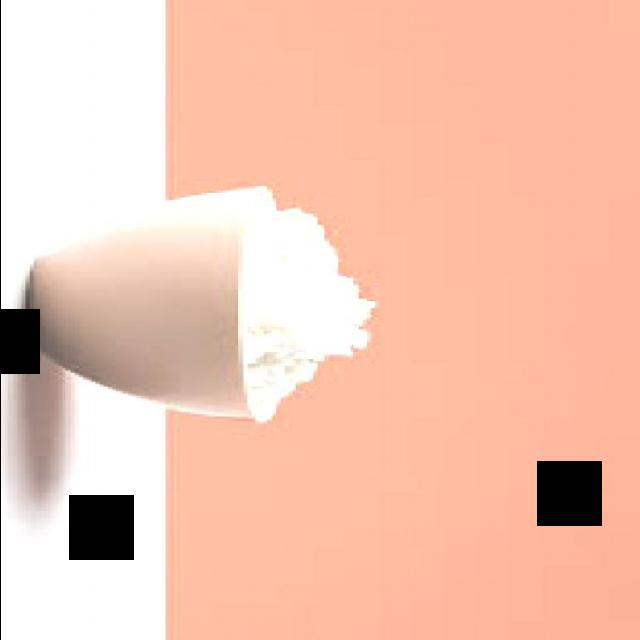rice: (242, 202, 379, 410)
